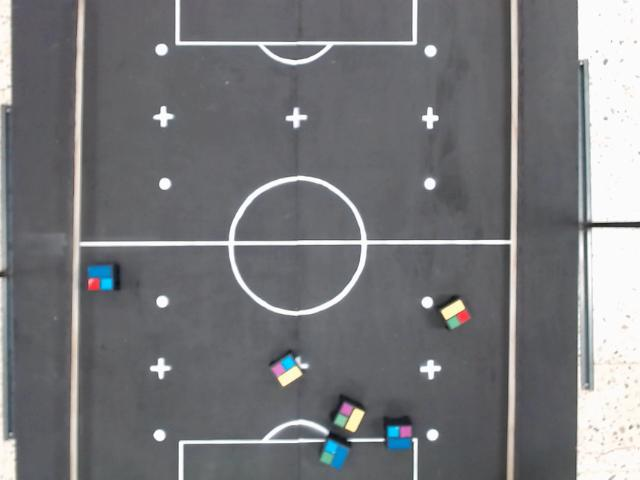robot: (267, 352, 305, 389), (438, 297, 473, 332), (331, 400, 366, 434), (317, 437, 351, 471), (84, 264, 115, 293), (385, 423, 414, 451)
